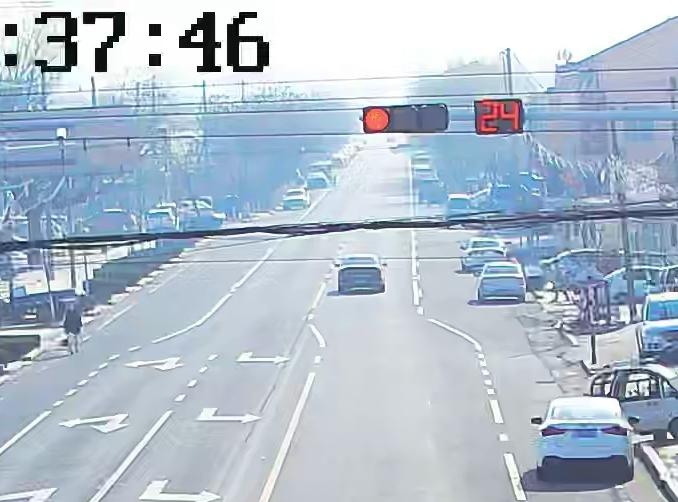red: (364, 107, 390, 133)
redtime: (477, 98, 523, 135)
